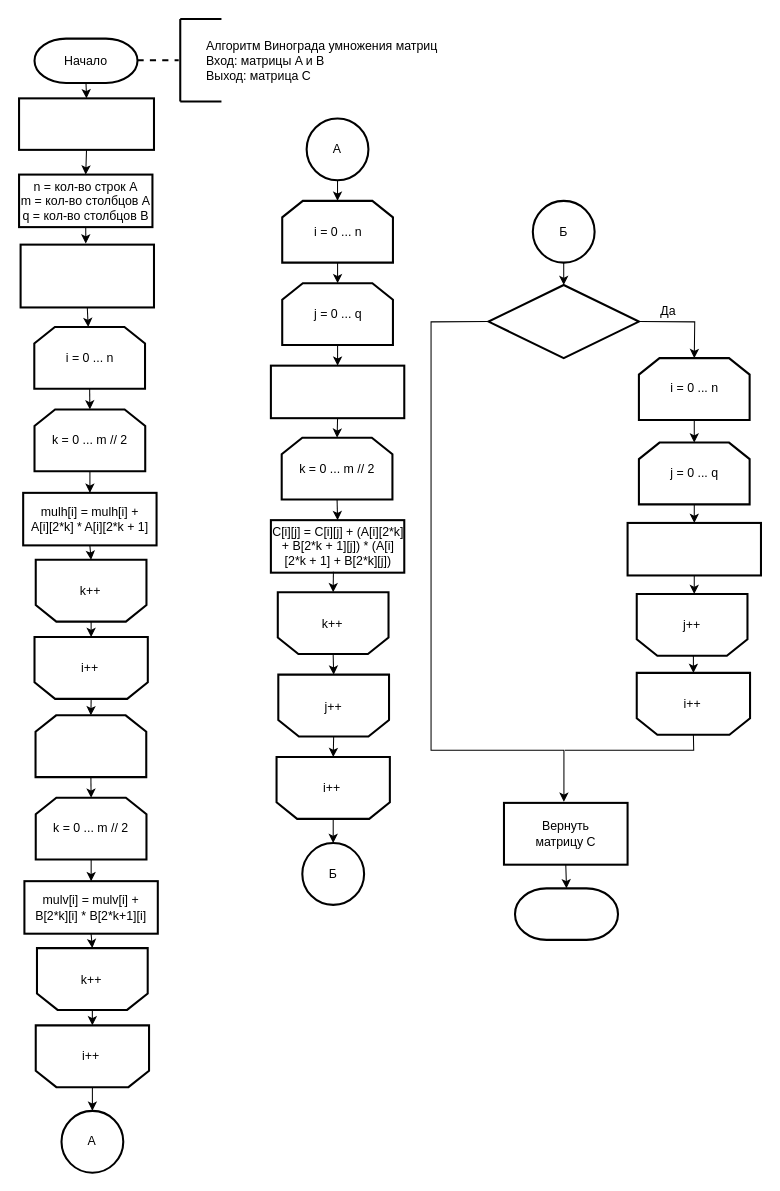
Image size: 780x1191. Some labels were removed from this diagram. Here are the shapes that lost their labels. From the top down, the centre of each, then its label:
(x=86, y=123): Проверка размеров матриц на корректность
(x=86, y=275): Создание матрицы C (n*q), массивов mulh длины n и mulv длины q
(x=563, y=321): m - нечётное?
(x=337, y=391): C[i][j] = - mulh[i] - mulv[i]
(x=693, y=548): C[i][j] = C[i][j] + A[i][m - 1] * B[m - 1][j]
(x=90, y=746): i = 0 ... q
(x=566, y=913): Конец
